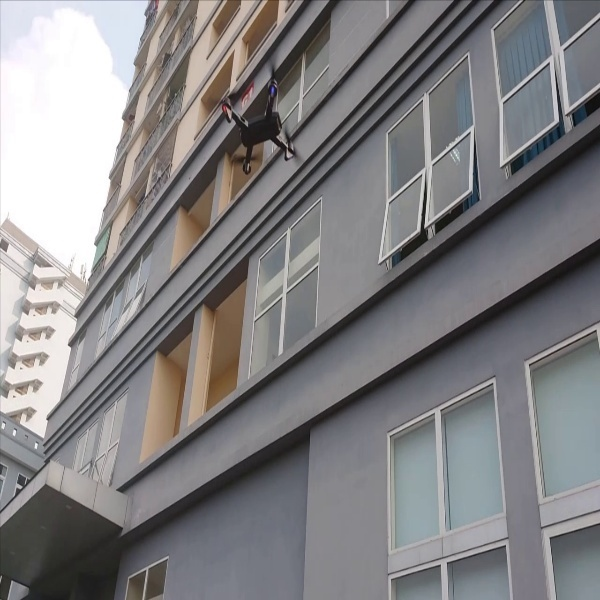drone: (209, 66, 302, 179)
